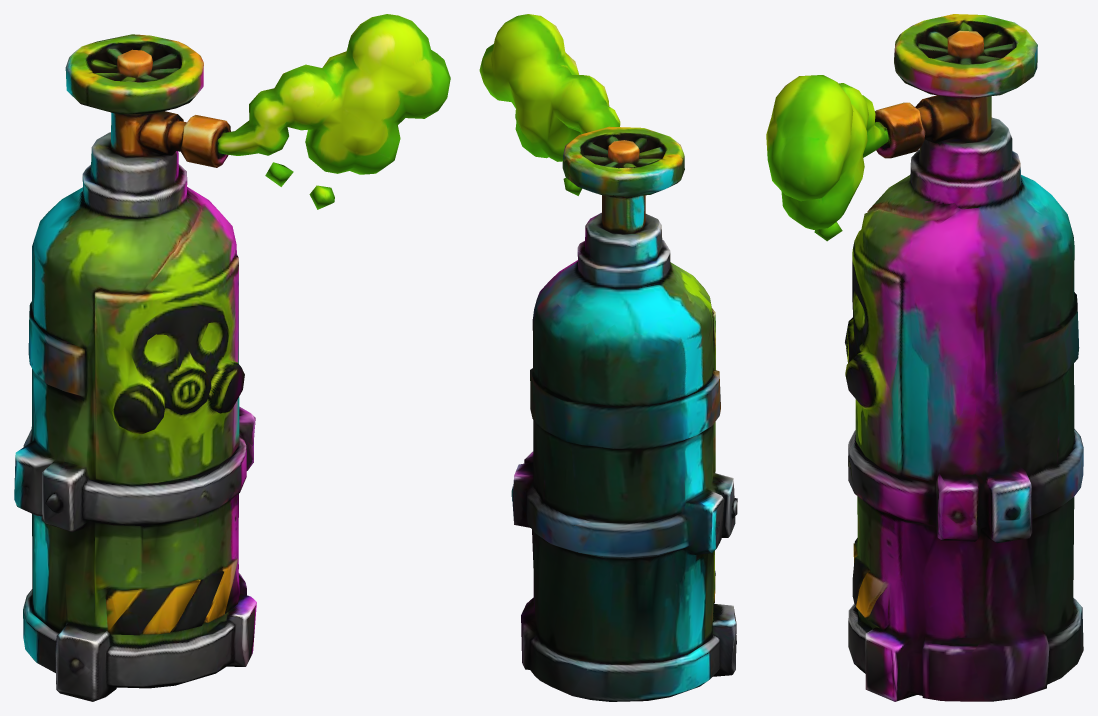
The model's file is GW_INT_gas_canister.glb.
The picture shows the model from 3 angles, left to right: view 1: azimuth 30°, elevation 25°; view 2: azimuth 150°, elevation 25°; view 3: azimuth 270°, elevation 25°; orthographic projection. The views are drawn at different scales.
Visible parts, largest first — view 1: tripo_node_3d7c2b4b-3b84-4aab-8031-6b865b0bdd35; view 2: tripo_node_3d7c2b4b-3b84-4aab-8031-6b865b0bdd35; view 3: tripo_node_3d7c2b4b-3b84-4aab-8031-6b865b0bdd35.
Boxes of the visible parts, x1=… form: tripo_node_3d7c2b4b-3b84-4aab-8031-6b865b0bdd35: x1=14, y1=14, x2=450, y2=701; tripo_node_3d7c2b4b-3b84-4aab-8031-6b865b0bdd35: x1=479, y1=14, x2=737, y2=701; tripo_node_3d7c2b4b-3b84-4aab-8031-6b865b0bdd35: x1=766, y1=14, x2=1083, y2=701.
Bounding box in the file's own units: 0.5584 × 1 × 0.424.
1 material, 1 textured.
